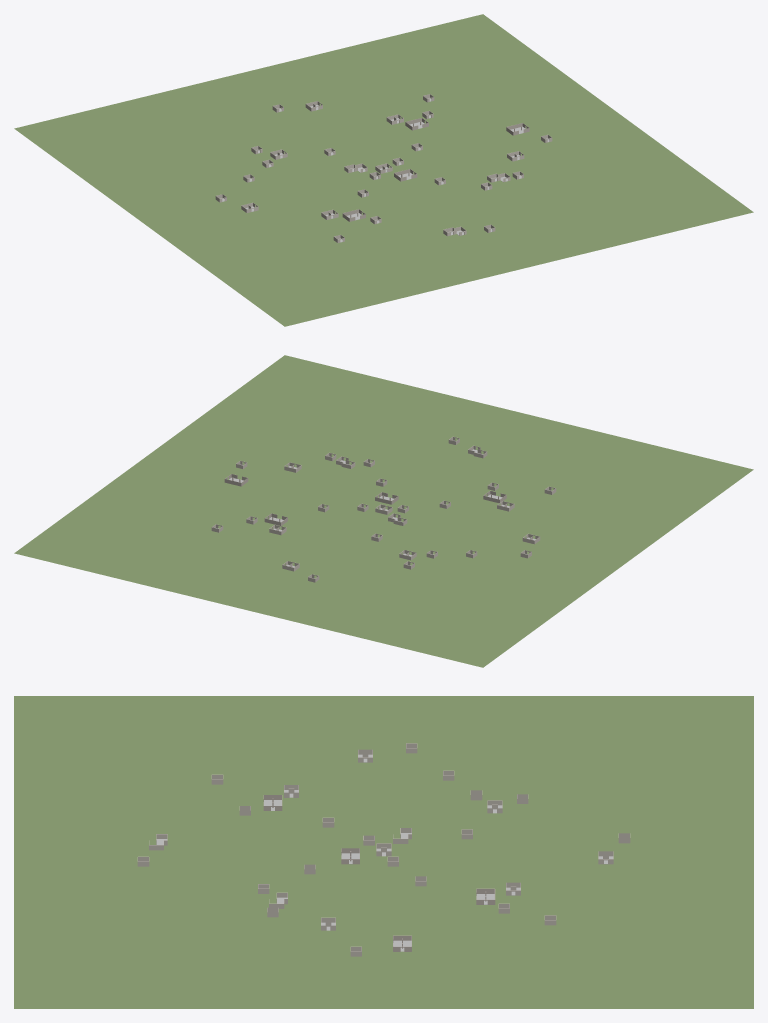
File: br_simpleMap.glb
3 renders of one model, top to bottom at view 1: azimuth 30°, elevation 25°; view 2: azimuth 150°, elevation 25°; view 3: azimuth 270°, elevation 25°, orthographic. The views are drawn at different scales.
Parts seen in each view (by area): view 1: Ground; view 2: Ground; view 3: Ground.
Part boxes in pixels (x1=…): Ground: x1=14, y1=14, x2=753, y2=326; Ground: x1=14, y1=355, x2=753, y2=667; Ground: x1=14, y1=696, x2=753, y2=1008.
Bounding box in the file's own units: 400 × 3 × 400.
